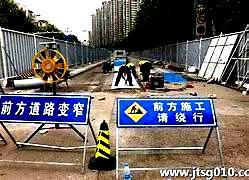sign: (118, 99, 216, 126), (1, 94, 87, 123)
